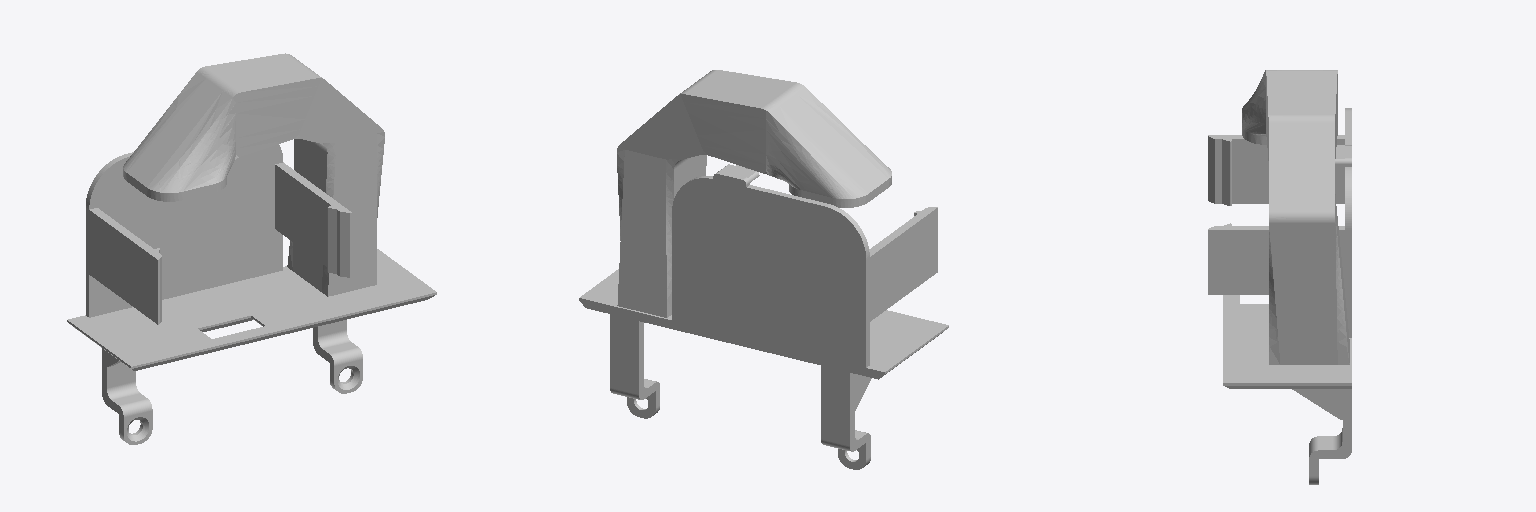
Rendered from Encaixe honeywell 2.obj.
The picture shows the model from 3 angles: view 1: azimuth 30°, elevation 25°; view 2: azimuth 150°, elevation 25°; view 3: azimuth 270°, elevation 25°; orthographic projection.
Bounding box in the file's own units: 74 × 80.43 × 30.2.